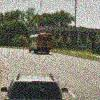cars: (1, 71, 68, 100)
